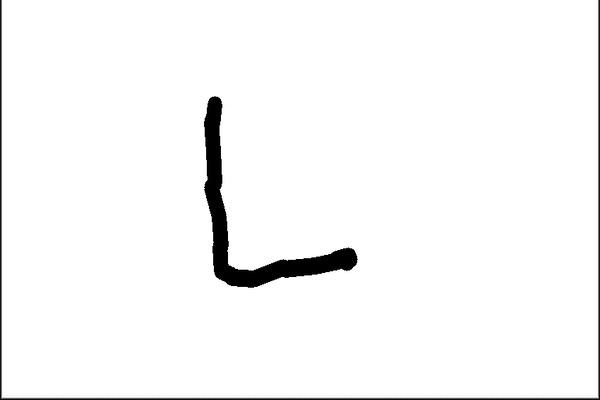L: (194, 90, 362, 291)
